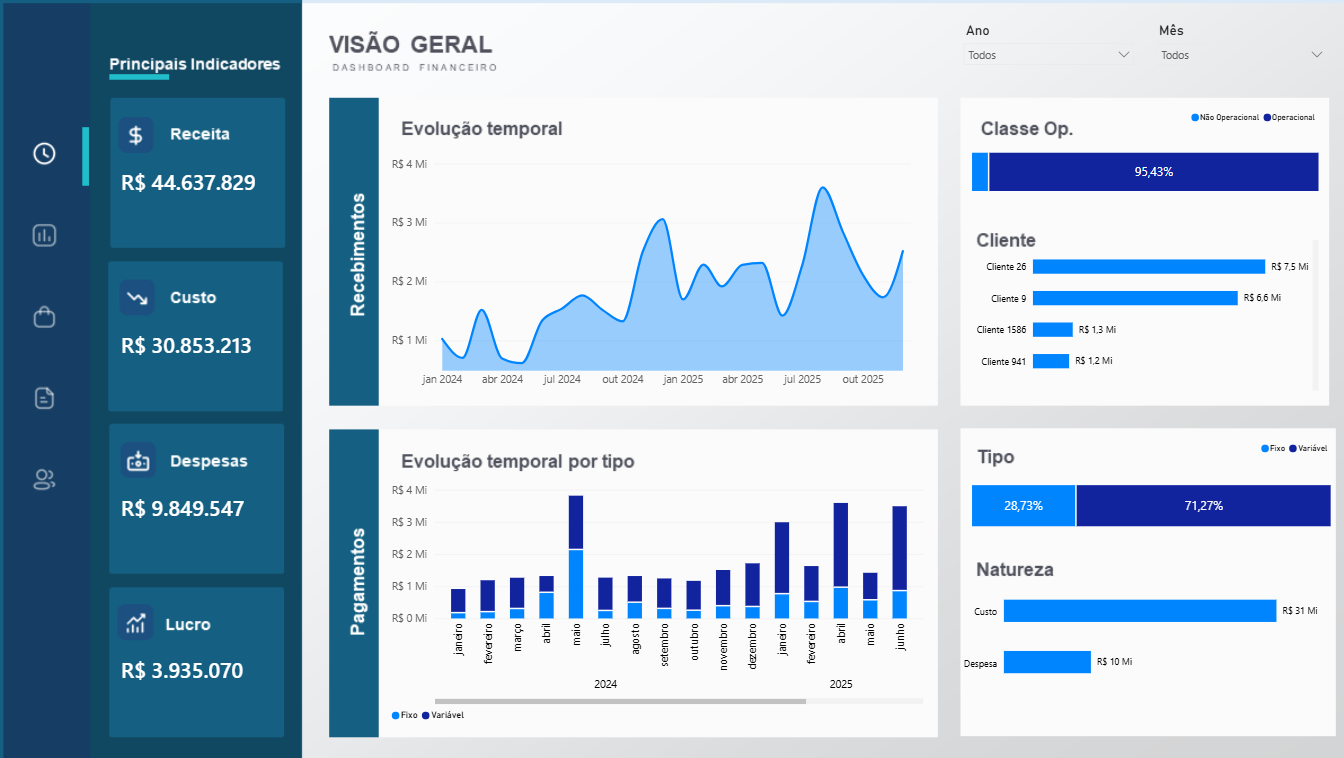

What the dashboard file says about the page in this screenshot:
{"tool":"powerbi","page":{"name":"Página 1","canvas":[1920,1080],"ordinal":0},"visuals":[{"type":"cardVisual","fields":{"Data":["Movimentação.Soma do Valor"]},"box":[204.1,181.4,237.4,179.9],"z":0},{"type":"cardVisual","fields":{"Data":["Movimentação.Soma do Valor"]},"box":[203.5,397.7,237.4,179.9],"z":1},{"type":"cardVisual","fields":{"Data":["Movimentação.Soma do Valor"]},"box":[203.5,615.1,237.4,179.9],"z":2},{"type":"cardVisual","fields":{"Data":["Movimentação.Lucro"]},"box":[203.5,830.6,237.9,179.6],"z":3},{"type":"areaChart","fields":{"Category":["Movimentação.Data da Movimentação.Variation.Hierarquia de datas.Ano","Movimentação.Data da Movimentação.Variation.Hierarquia de datas.Mês"],"Y":["Movimentação.Soma do Valor"]},"box":[562.4,222.2,740.8,343.2],"z":4},{"type":"hundredPercentStackedBarChart","fields":{"Series":["Movimentação.Classe Operacional"],"Y":["Movimentação.Soma do Valor"]},"box":[1334.9,157.2,492.9,167.8],"z":5},{"type":"clusteredBarChart","fields":{"Category":["Clientes.Clientes"],"Y":["Movimentação.Soma do Valor"]},"box":[1334.9,325,492.9,240.4],"z":6},{"type":"columnChart","fields":{"Category":["Movimentação.Data da Movimentação.Variation.Hierarquia de datas.Ano","Movimentação.Data da Movimentação.Variation.Hierarquia de datas.Mês"],"Series":["Movimentação.Tipo de Saída"],"Y":["Movimentação.Soma do Valor"]},"box":[562.8,655.1,740.5,355.4],"z":7},{"type":"hundredPercentStackedBarChart","fields":{"Series":["Movimentação.Tipo de Saída"],"Y":["Movimentação.Soma do Valor"]},"box":[1334.9,597.2,509.5,175.4],"z":8},{"type":"clusteredBarChart","fields":{"Category":["Movimentação.Natureza da Conta"],"Y":["Movimentação.Soma do Valor"]},"box":[1321.3,743.8,506.5,263.1],"z":9},{"type":"slicer","fields":{"Values":["Movimentação.Data da Movimentação.Variation.Hierarquia de datas.Ano"]},"box":[1334.9,59,235.8,74.1],"z":10},{"type":"slicer","fields":{"Values":["Movimentação.Data da Movimentação.Variation.Hierarquia de datas.Mês"]},"box":[1591.9,59,235.8,74.1],"z":11}]}

Visuals, with their boxes in screenshot pixels (x1, y1, x2, y2), scaled from the page's 1920x1080 canvas onto the 1344x758 screenshot:
cardVisual - Movimentação.Soma do Valor: (x1=143, y1=127, x2=309, y2=254)
cardVisual - Movimentação.Soma do Valor: (x1=142, y1=279, x2=309, y2=405)
cardVisual - Movimentação.Soma do Valor: (x1=142, y1=432, x2=309, y2=558)
cardVisual - Movimentação.Lucro: (x1=142, y1=583, x2=309, y2=709)
areaChart - Movimentação.Data da Movimentação.Variation.Hierarquia de datas.Ano x Movimentação.Data da Movimentação.Variation.Hierarquia de datas.Mês: (x1=394, y1=156, x2=912, y2=397)
hundredPercentStackedBarChart - Movimentação.Classe Operacional x Movimentação.Soma do Valor: (x1=934, y1=110, x2=1279, y2=228)
clusteredBarChart - Clientes.Clientes x Movimentação.Soma do Valor: (x1=934, y1=228, x2=1279, y2=397)
columnChart - Movimentação.Data da Movimentação.Variation.Hierarquia de datas.Ano x Movimentação.Data da Movimentação.Variation.Hierarquia de datas.Mês: (x1=394, y1=460, x2=912, y2=709)
hundredPercentStackedBarChart - Movimentação.Tipo de Saída x Movimentação.Soma do Valor: (x1=934, y1=419, x2=1291, y2=542)
clusteredBarChart - Movimentação.Natureza da Conta x Movimentação.Soma do Valor: (x1=925, y1=522, x2=1279, y2=707)
slicer - Movimentação.Data da Movimentação.Variation.Hierarquia de datas.Ano: (x1=934, y1=41, x2=1099, y2=93)
slicer - Movimentação.Data da Movimentação.Variation.Hierarquia de datas.Mês: (x1=1114, y1=41, x2=1279, y2=93)
